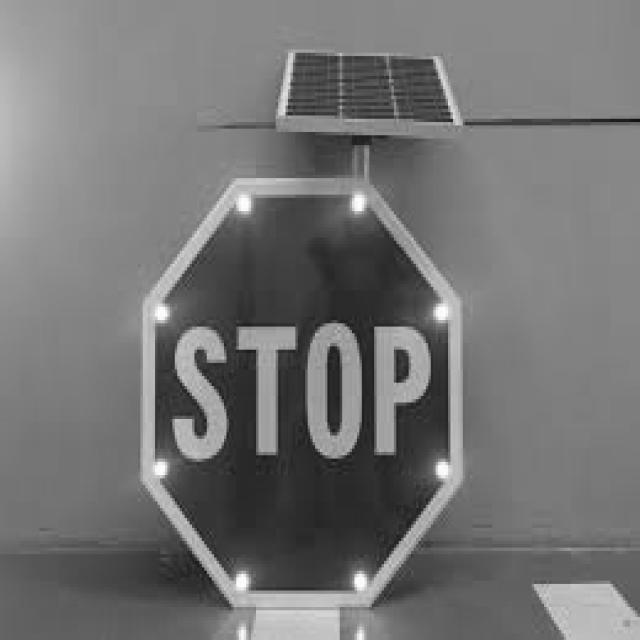stop sign: (146, 176, 464, 608)
